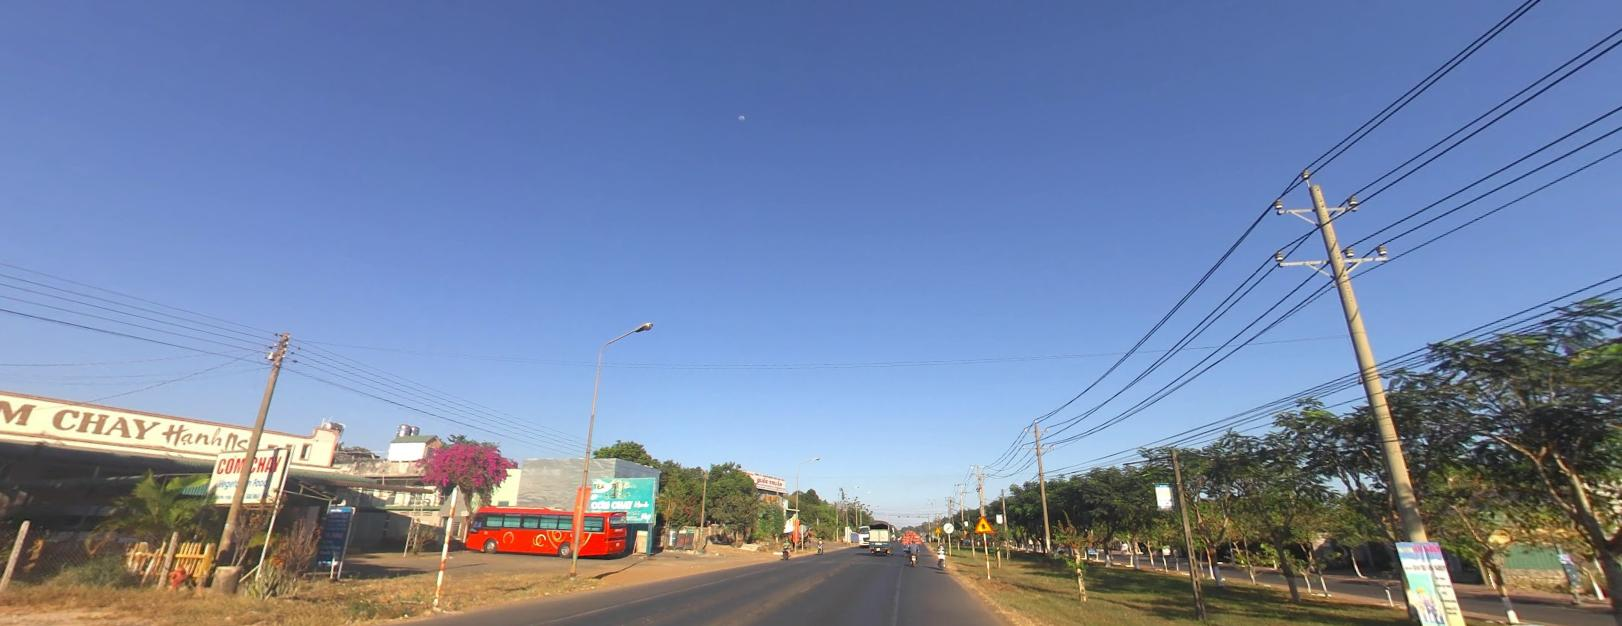Cam con lai: (943, 521, 953, 532)
Nguy hiem: (974, 516, 994, 532), (933, 525, 942, 532)
